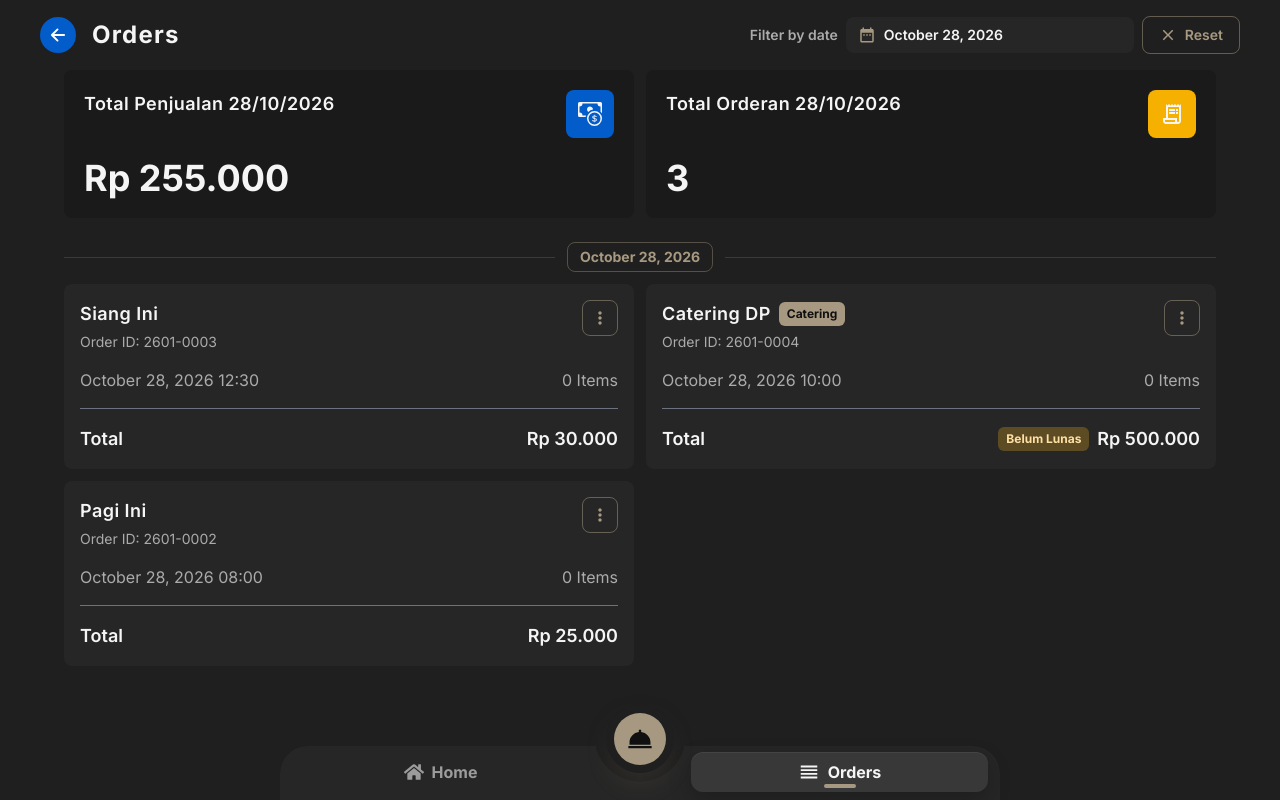
orders page › hides the delete action while order deletion is turned off
The image size is (1280, 800).
Step 1. Click the button named "Order actions" in the row of "2601-0003" → (600, 318), box left=582, top=300, right=618, bottom=336
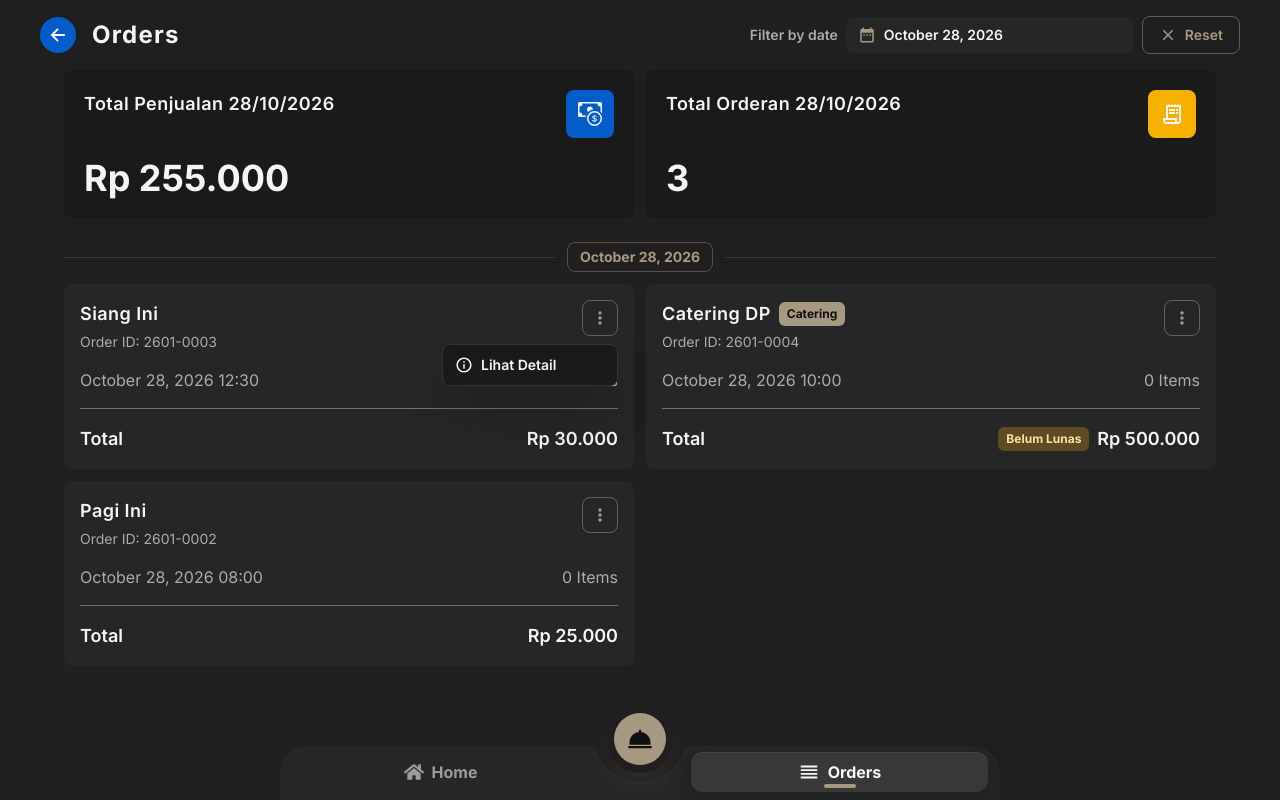
Now the button "Lihat Detail" is shown, box left=443, top=345, right=617, bottom=385
